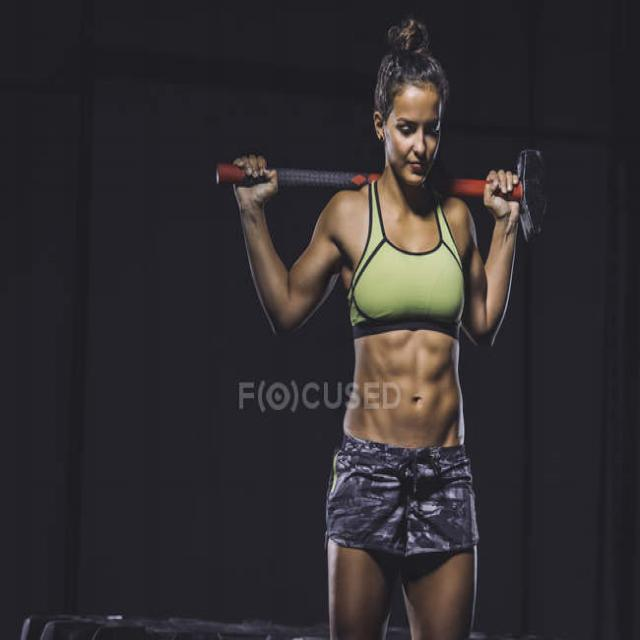hammer: (197, 142, 558, 248)
